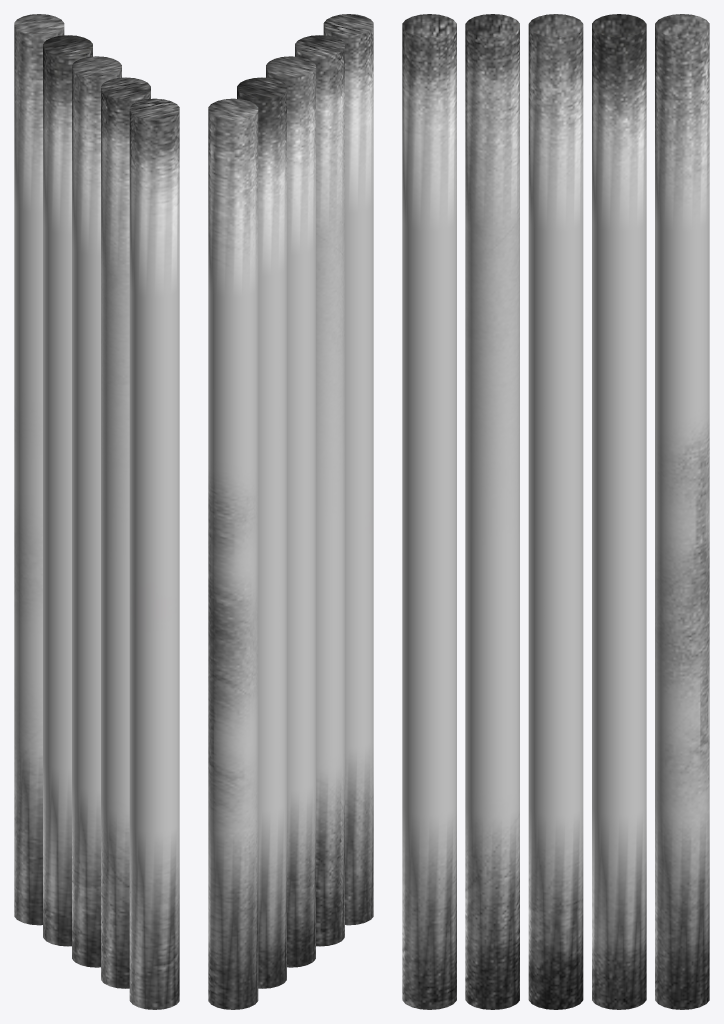
File: Lab_el_joint_light.fbx
The picture shows the model from 3 angles, left to right: view 1: azimuth 30°, elevation 25°; view 2: azimuth 150°, elevation 25°; view 3: azimuth 270°, elevation 25°; orthographic projection. The views are drawn at different scales.
Visible parts, largest first — view 1: Cylinder001; view 2: Cylinder001; view 3: Cylinder001.
Boxes of the visible parts, x1,y1,x2,y2 form: Cylinder001: [14, 14, 179, 1009]; Cylinder001: [208, 14, 373, 1009]; Cylinder001: [402, 14, 709, 1009].
Size of the model in its own units: 8.78 by 170 by 48.65.
